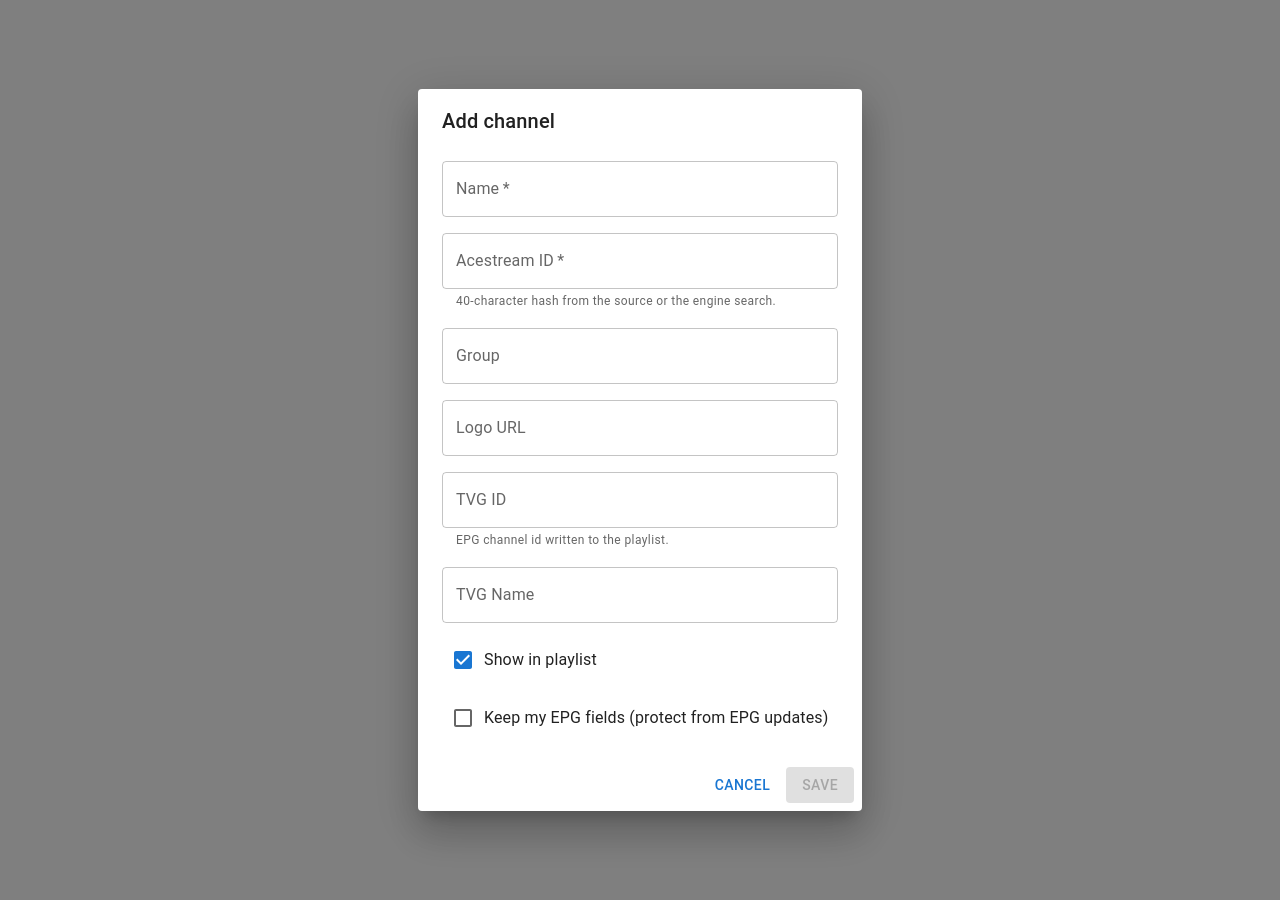
Test case: QuickEditDialog › asks for the ID when creating and disables Save until name and ID are filled
Expected: the heading "Add channel" is shown, [442, 109, 555, 133]
Expected: the button "Save" is disabled, [786, 767, 854, 803]
In the field labelled "Name *": (640, 189) [442, 161, 838, 217], type "New"
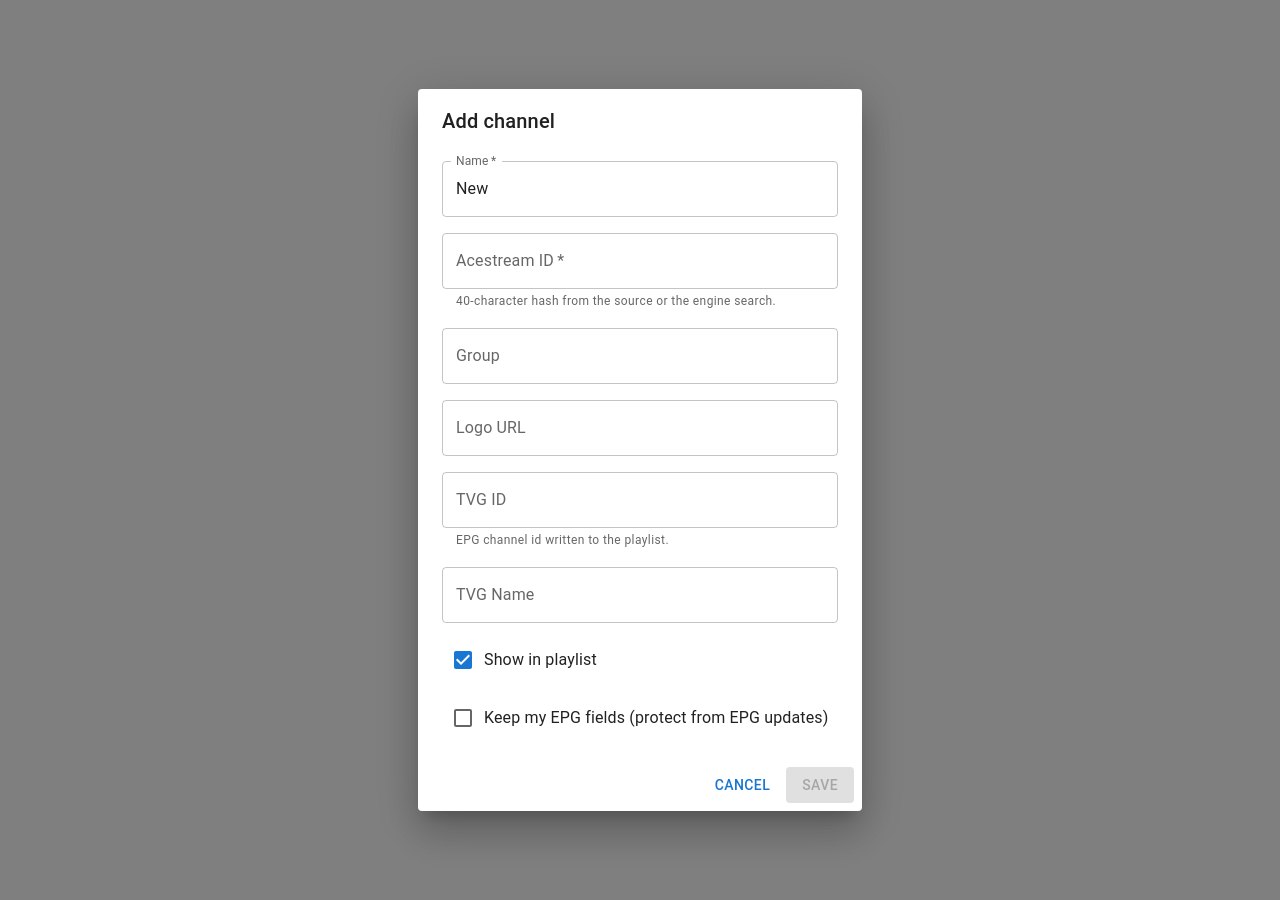
In the field labelled "Acestream ID *": (640, 261) [442, 233, 838, 289], type "deadbeef"
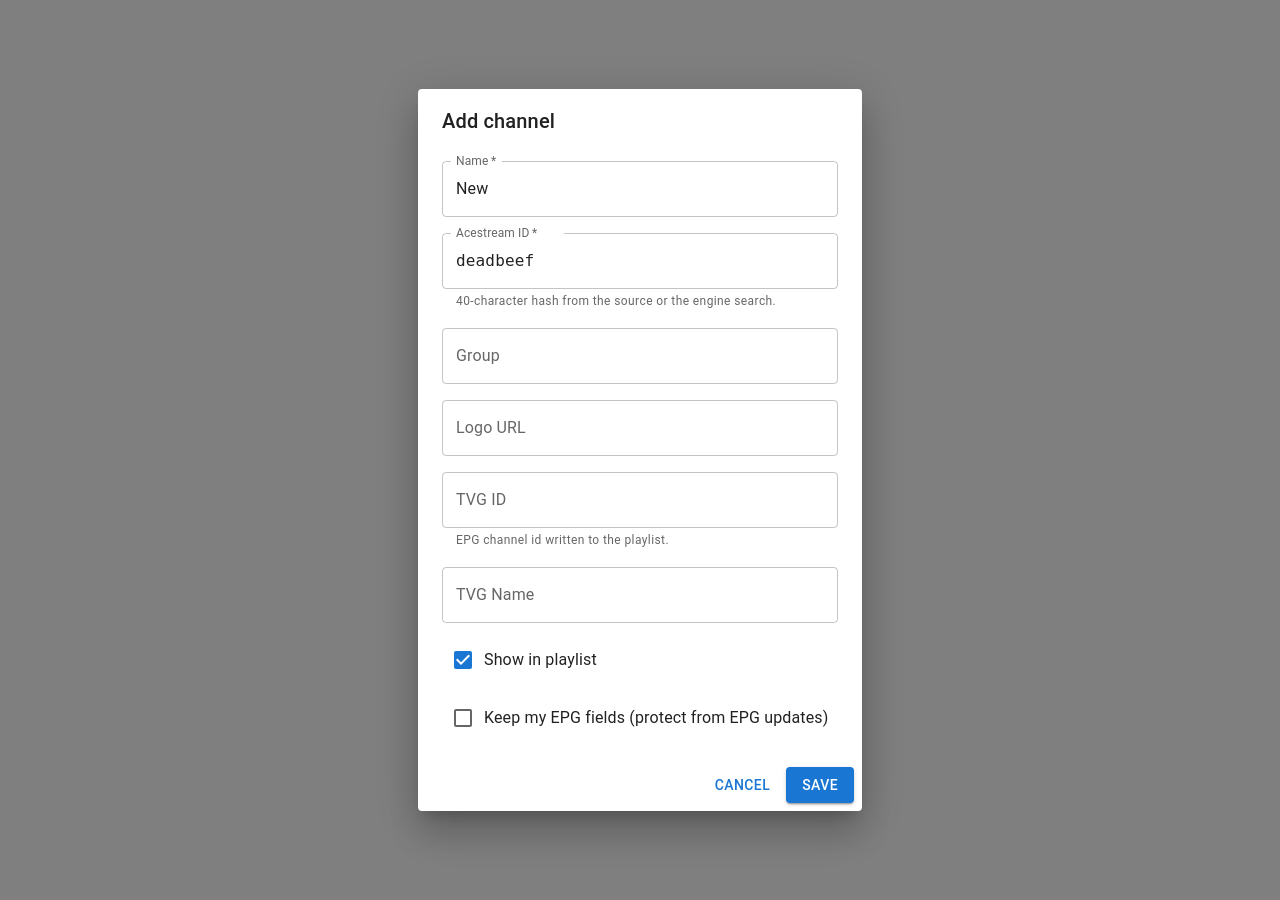
Now the button "Save" is enabled, box [786, 767, 854, 803]
